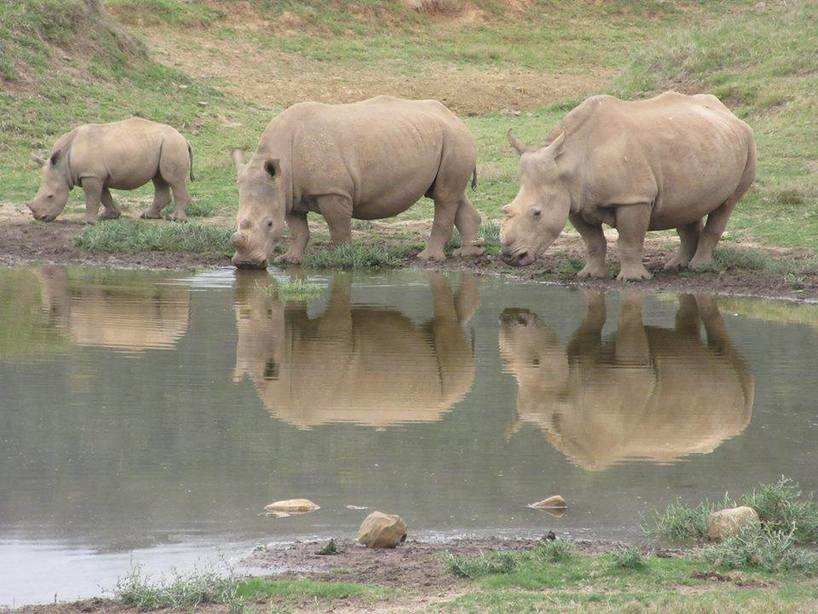rhino: (357, 178, 615, 352), (628, 185, 818, 379), (108, 170, 276, 272)
